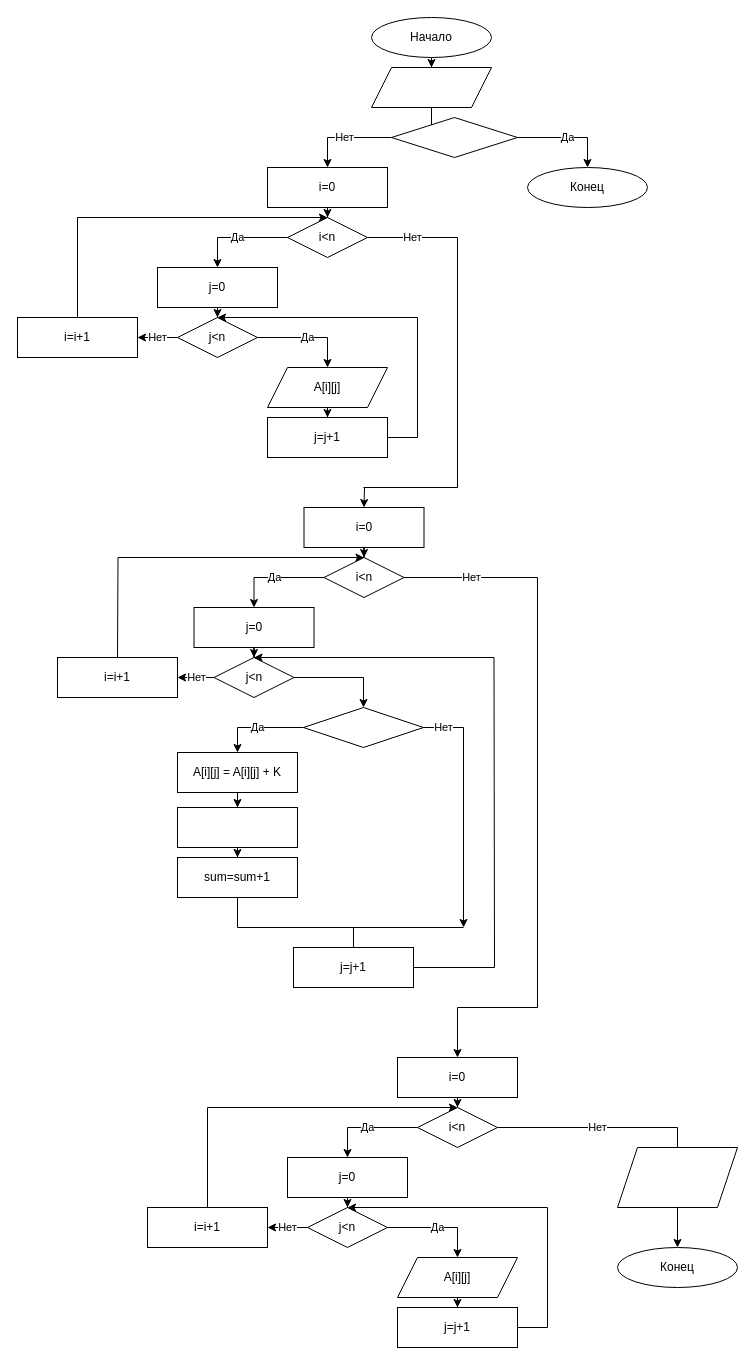
Some shapes in this 755 by 1365 pixel diagram are drawn without their labels. Each missing label, with the box of its shape:
A[i][j] < A[i][i]: (302, 706, 424, 748)
n, K: (370, 66, 492, 108)
n<=1 || n>10: (390, 116, 518, 158)
sc, sum: (616, 1146, 738, 1208)
sc=sc+1: (176, 806, 298, 848)
